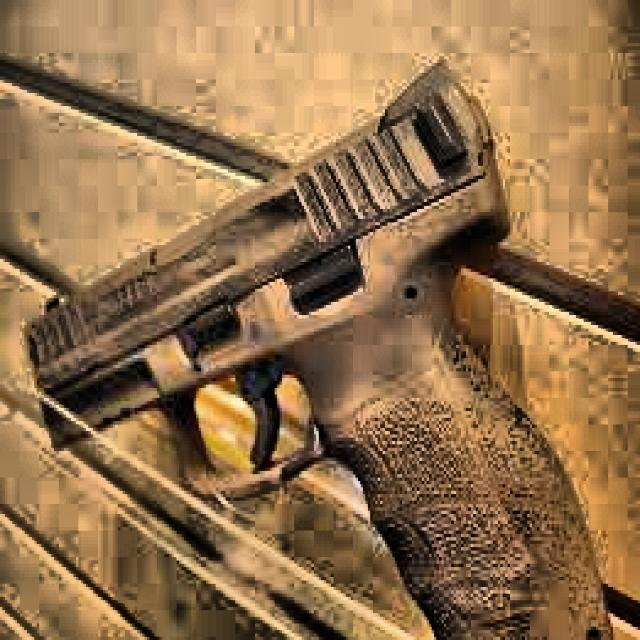HKVP9: (22, 54, 620, 640)
